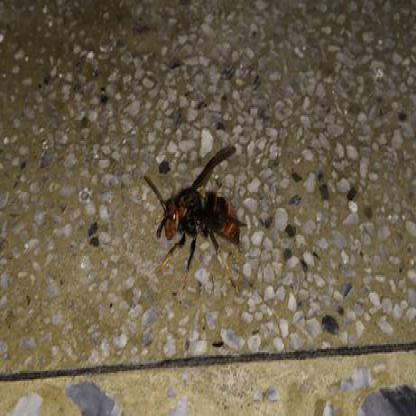Asian Hornet: (144, 144, 248, 286)
